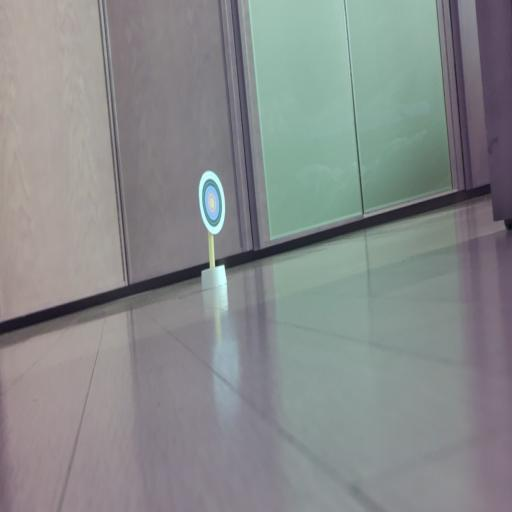target: (199, 170, 226, 235)
